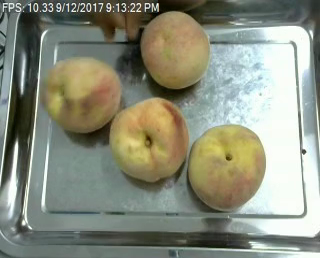Peach: (187, 123, 267, 211), (108, 97, 188, 182), (40, 56, 121, 134), (139, 9, 211, 88)
